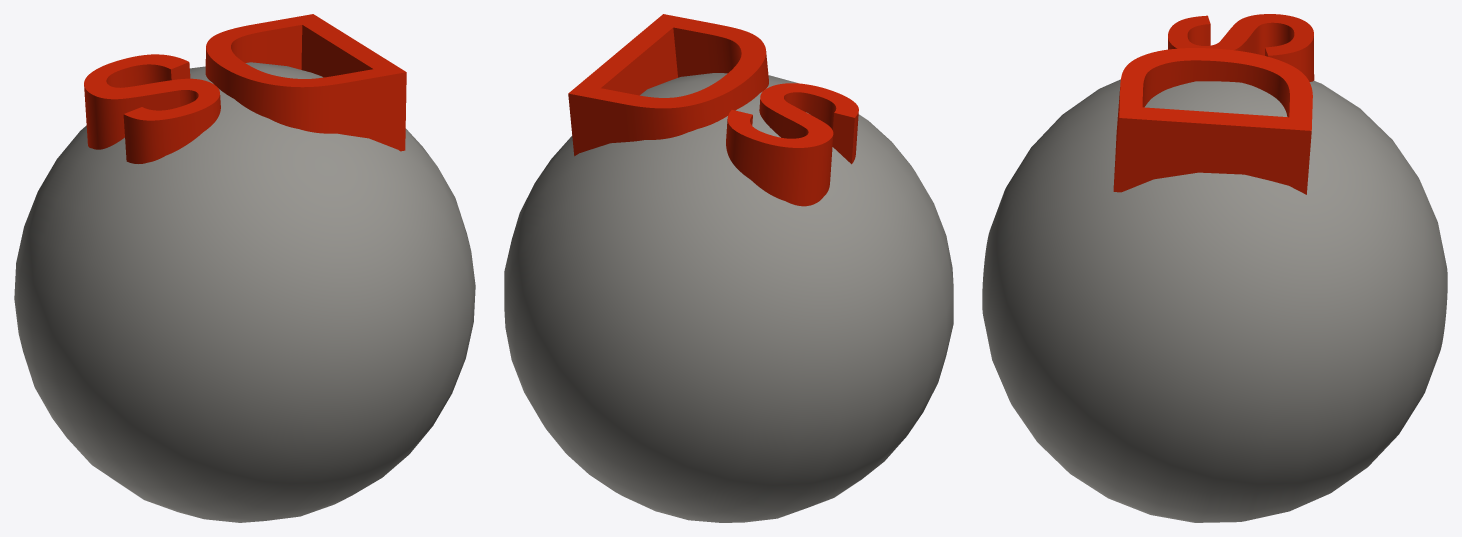
The picture shows the model from 3 angles, left to right: view 1: azimuth 30°, elevation 25°; view 2: azimuth 150°, elevation 25°; view 3: azimuth 270°, elevation 25°; orthographic projection. The views are drawn at different scales.
Parts seen in each view (by area): view 1: Hf001, Object021, Object022; view 2: Hf001, Object021, Object022; view 3: Hf001, Object021, Object022.
Part boxes in pixels (bbox=[...]): Hf001: bbox=[14, 62, 475, 522]; Object021: bbox=[205, 14, 406, 151]; Object022: bbox=[84, 54, 220, 163]; Hf001: bbox=[504, 73, 953, 522]; Object021: bbox=[568, 14, 768, 156]; Object022: bbox=[726, 83, 858, 206]; Hf001: bbox=[982, 79, 1447, 522]; Object021: bbox=[1113, 48, 1312, 194]; Object022: bbox=[1168, 14, 1314, 81].
Size of the model in its own units: 38.67 by 40.86 by 38.66.
